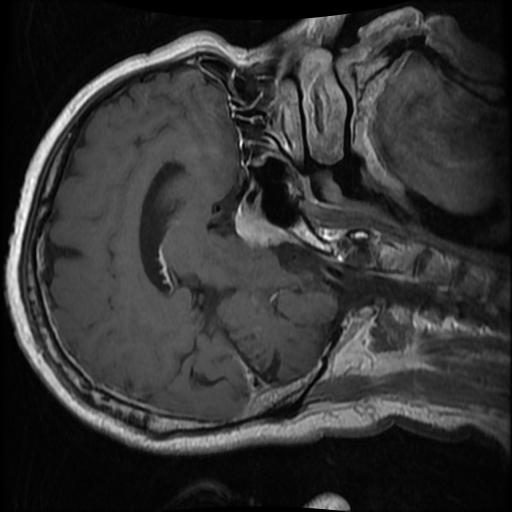meningioma: (233, 194, 301, 249)
